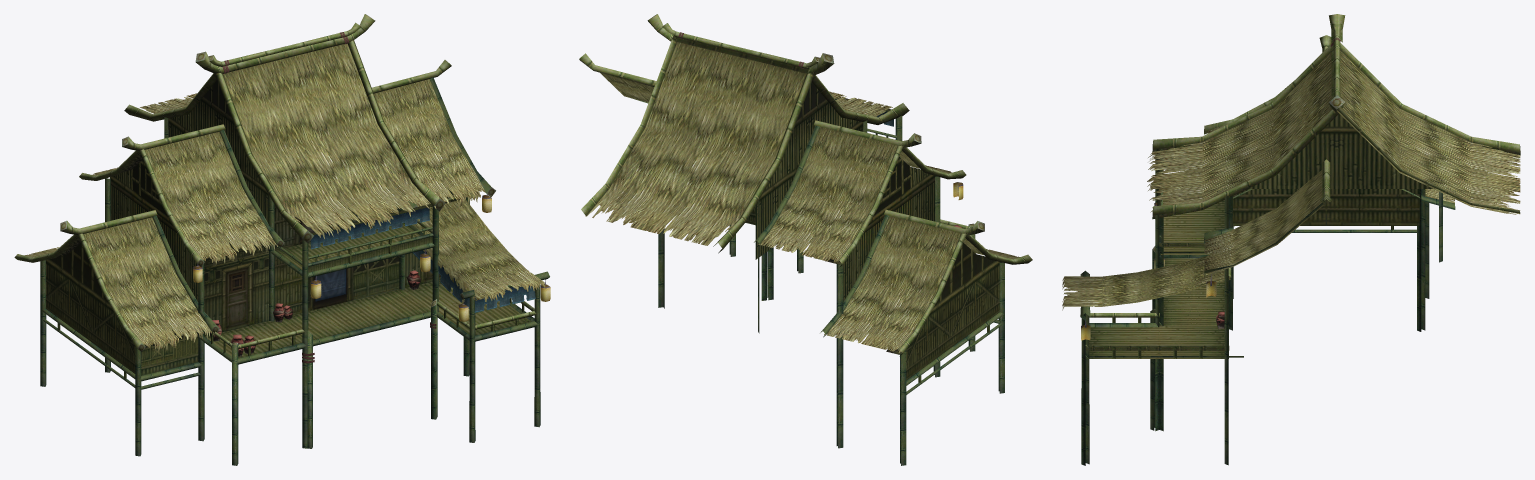
The model's file is yw_yanziwu_fangzi.FBX.
The picture shows the model from 3 angles, left to right: view 1: azimuth 30°, elevation 25°; view 2: azimuth 150°, elevation 25°; view 3: azimuth 270°, elevation 25°; orthographic projection. The views are drawn at different scales.
Parts seen in each view (by area): view 1: yw_yanziwu_fangzi; view 2: yw_yanziwu_fangzi; view 3: yw_yanziwu_fangzi.
Boxes of the visible parts, x1,y1,x2,y2 form: yw_yanziwu_fangzi: (14, 14, 550, 465); yw_yanziwu_fangzi: (579, 14, 1032, 465); yw_yanziwu_fangzi: (1062, 14, 1520, 465).
Size of the model in its own units: 2173 by 1782 by 2147.
